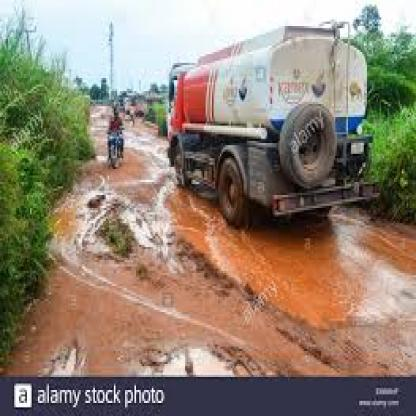car: (152, 22, 394, 250)
